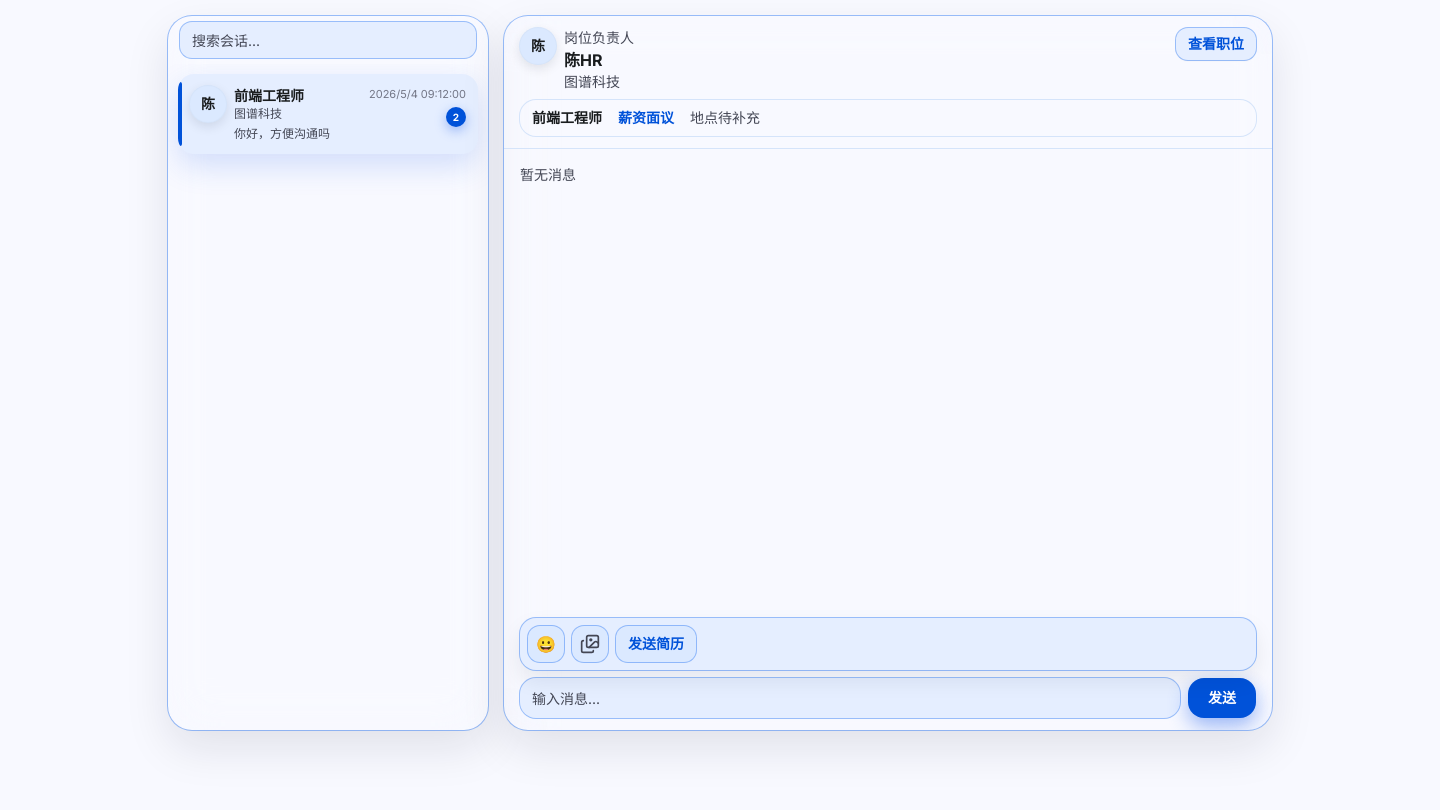
Test: chat workspace redesign › supports emoji category switch and pagination with fixed scroll region
The width and height of the screenshot is (1440, 810).
Click the button with test id "chat-emoji-button": {"x": 546, "y": 644} [528,626,564,662]
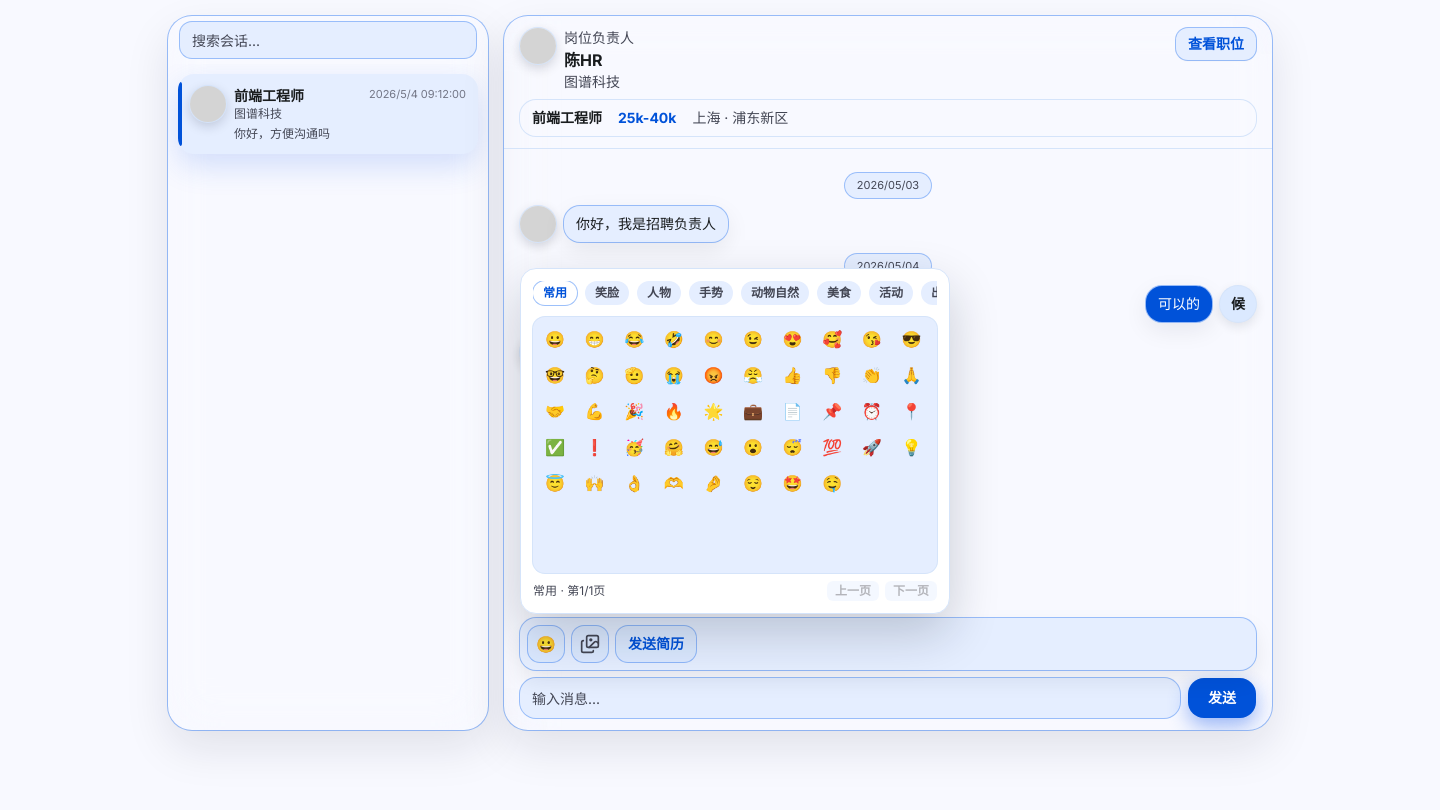
Click the button "笑脸": {"x": 607, "y": 293} [585,281,629,305]
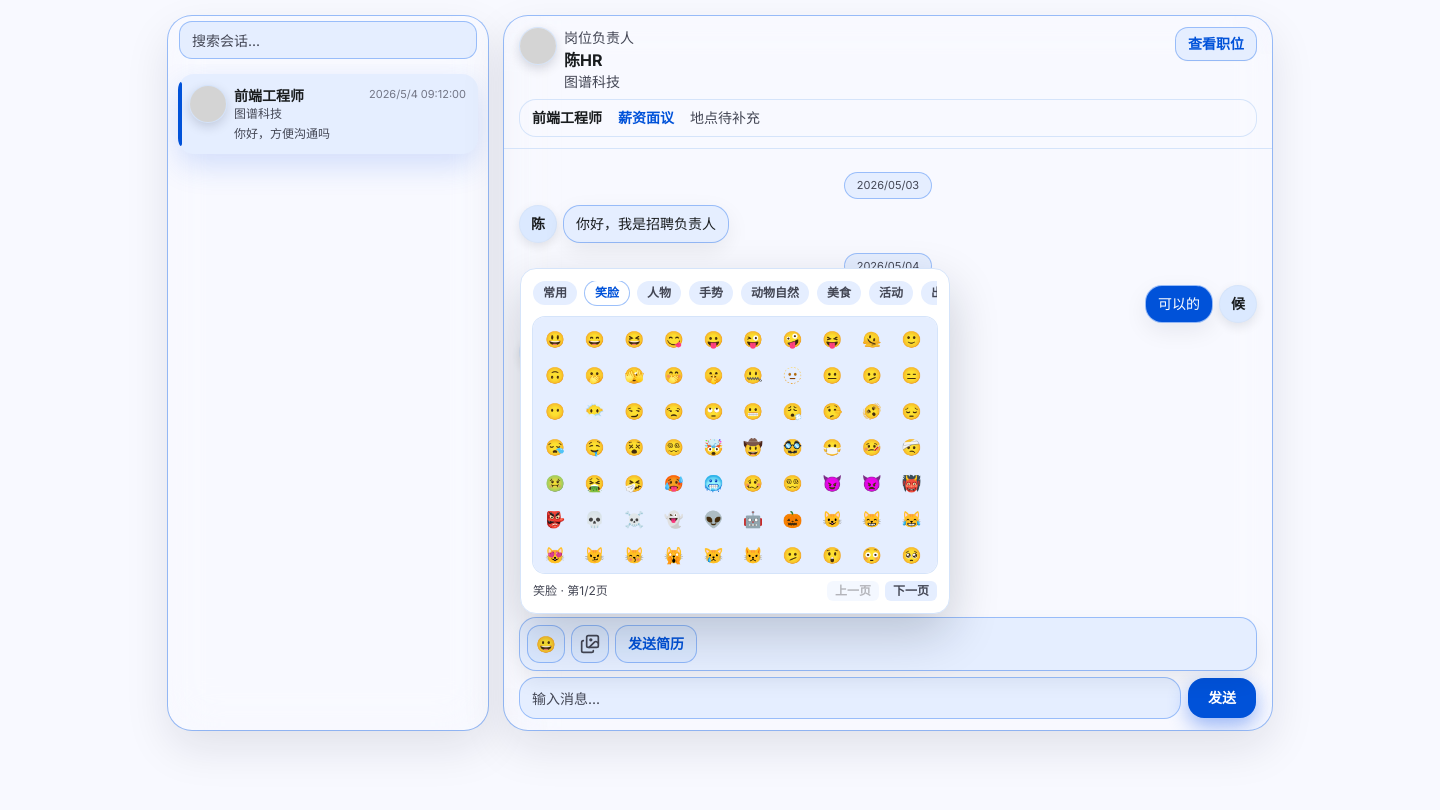
Result: the text "笑脸 · 第1/2页" is shown at [533,583,608,599]
Click the button with aria-label "下一页表情": {"x": 911, "y": 591} [885,581,937,601]
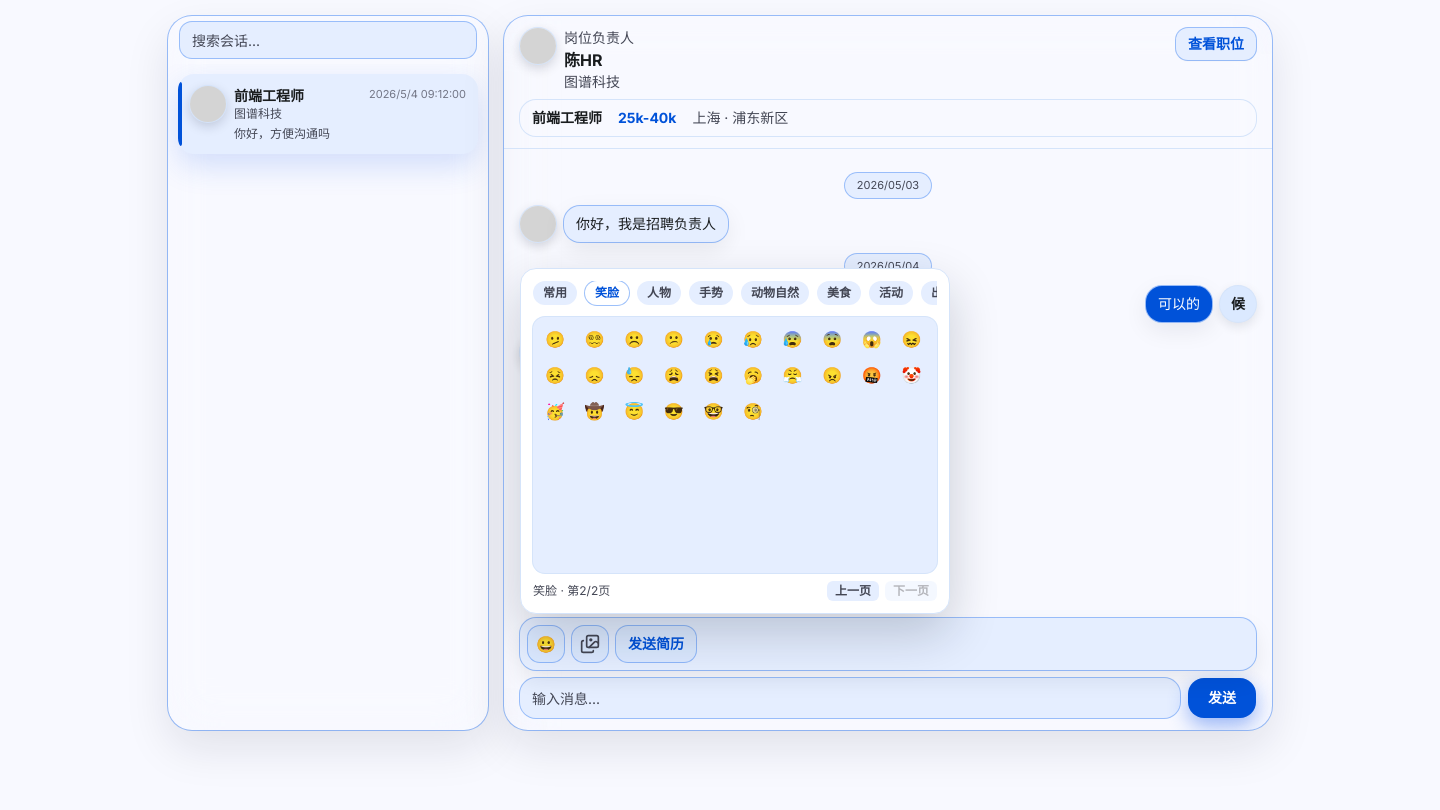
Result: the button with aria-label "上一页表情" is shown at [827,581,879,601]
Result: the text "笑脸 · 第2/2页" is shown at [533,583,610,599]
